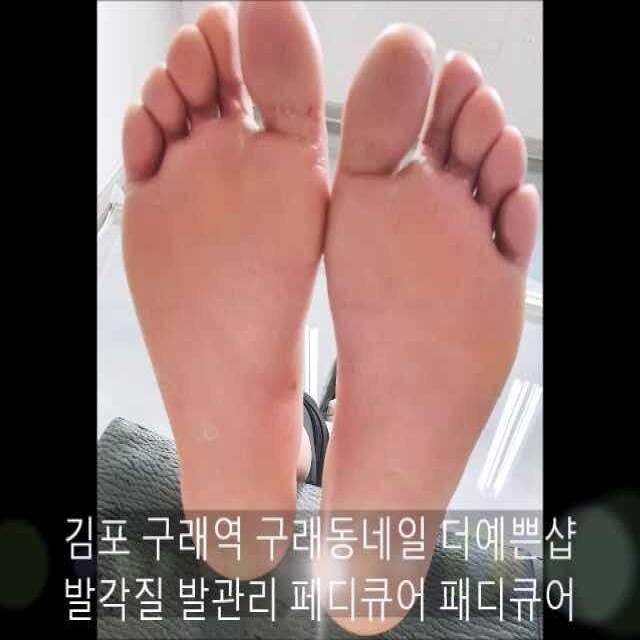No_Shoes: (316, 19, 540, 640), (118, 8, 340, 568)
